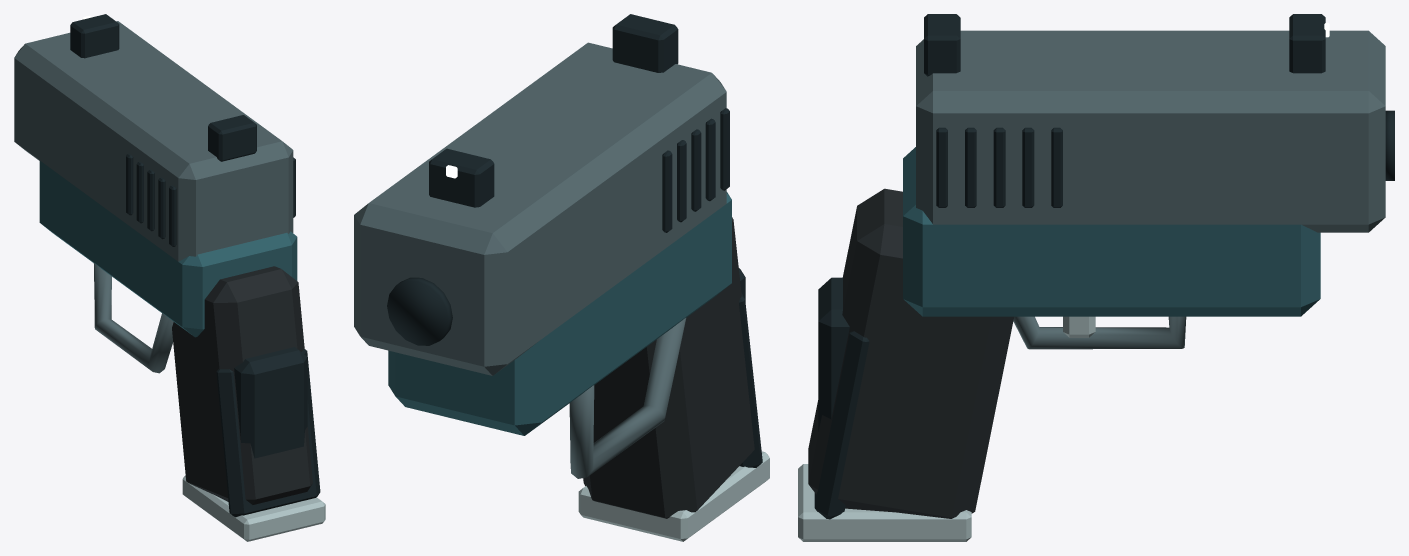
Rendered from sidearm-pistol.glb.
3 views of the same model, side by side, from view 1: azimuth 30°, elevation 25°; view 2: azimuth 150°, elevation 25°; view 3: azimuth 270°, elevation 25° (orthographic). The views are drawn at different scales.
Visible parts, largest first — view 1: Machined slide, Textured pistol grip.003, Polymer frame, Removable magazine.002, Grip backstrap, Magazine base, Trigger guard.003, Raised sight, Raised sight.001, Slide serration.001, Slide serration.002, Slide serration.004 (+2 smaller); view 2: Machined slide, Polymer frame, Textured pistol grip.003, Trigger guard.003, Magazine base, Barrel recess, Raised sight, Raised sight.001, Grip backstrap, Slide serration.002, Slide serration.004, Slide serration.001 (+2 smaller); view 3: Machined slide, Polymer frame, Textured pistol grip.003, Magazine base, Grip backstrap, Trigger guard.003, Removable magazine.002, Raised sight, Raised sight.001, Slide serration.007, Slide serration.008, Slide serration.005 (+3 smaller).
Part boxes in pixels (x1=…): Machined slide: x1=14, y1=21, x2=293, y2=261; Textured pistol grip.003: x1=172, y1=266, x2=312, y2=504; Polymer frame: x1=39, y1=160, x2=297, y2=337; Removable magazine.002: x1=234, y1=347, x2=307, y2=458; Grip backstrap: x1=216, y1=349, x2=320, y2=517; Magazine base: x1=182, y1=475, x2=325, y2=541; Trigger guard.003: x1=93, y1=263, x2=173, y2=373; Raised sight: x1=208, y1=115, x2=256, y2=161; Raised sight.001: x1=70, y1=14, x2=119, y2=58; Slide serration.001: x1=158, y1=177, x2=165, y2=239; Slide serration.002: x1=147, y1=169, x2=154, y2=231; Slide serration.004: x1=126, y1=153, x2=133, y2=215; Machined slide: x1=354, y1=42, x2=726, y2=375; Polymer frame: x1=388, y1=192, x2=731, y2=435; Textured pistol grip.003: x1=583, y1=217, x2=754, y2=518; Trigger guard.003: x1=569, y1=318, x2=686, y2=478; Magazine base: x1=578, y1=451, x2=769, y2=541; Barrel recess: x1=387, y1=277, x2=452, y2=345; Raised sight: x1=612, y1=14, x2=678, y2=72; Raised sight.001: x1=429, y1=148, x2=494, y2=207; Grip backstrap: x1=739, y1=292, x2=762, y2=467; Slide serration.002: x1=691, y1=129, x2=701, y2=211; Slide serration.004: x1=662, y1=150, x2=672, y2=232; Slide serration.001: x1=705, y1=118, x2=715, y2=201; Machined slide: x1=916, y1=30, x2=1385, y2=232; Polymer frame: x1=903, y1=147, x2=1320, y2=316; Textured pistol grip.003: x1=808, y1=188, x2=1013, y2=518; Magazine base: x1=798, y1=464, x2=971, y2=541; Grip backstrap: x1=814, y1=331, x2=869, y2=519; Trigger guard.003: x1=1013, y1=316, x2=1186, y2=349; Removable magazine.002: x1=818, y1=277, x2=849, y2=431; Raised sight: x1=924, y1=14, x2=960, y2=76; Raised sight.001: x1=1289, y1=14, x2=1325, y2=73; Slide serration.007: x1=993, y1=127, x2=1005, y2=207; Slide serration.008: x1=1022, y1=127, x2=1034, y2=207; Slide serration.005: x1=936, y1=127, x2=947, y2=207.
Size of the model in its own units: 0.146 by 0.417 by 0.4575.
